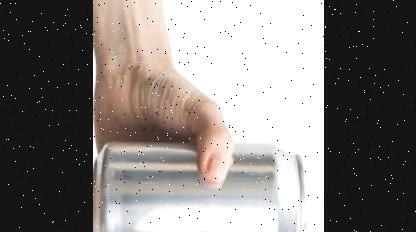Can: (92, 141, 307, 232)
